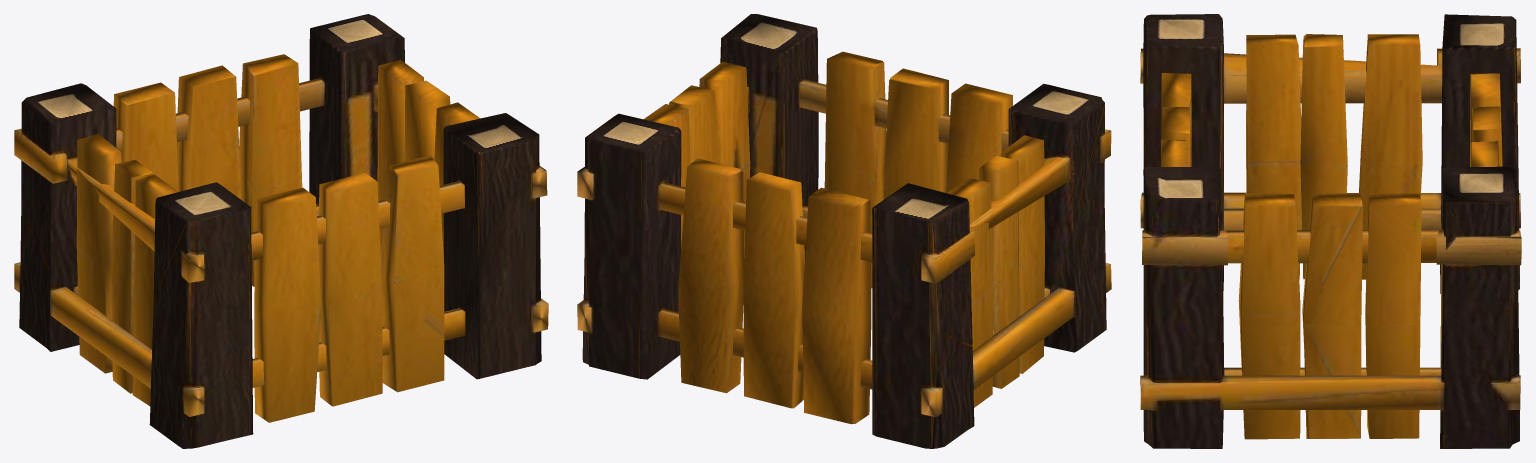
File: arena-barricade.glb
3 views of the same model, side by side, from view 1: azimuth 30°, elevation 25°; view 2: azimuth 150°, elevation 25°; view 3: azimuth 270°, elevation 25° (orthographic). The views are drawn at different scales.
Size of the model in its own units: 0.9551 by 0.5737 by 0.8004.
1 material, 1 textured.
